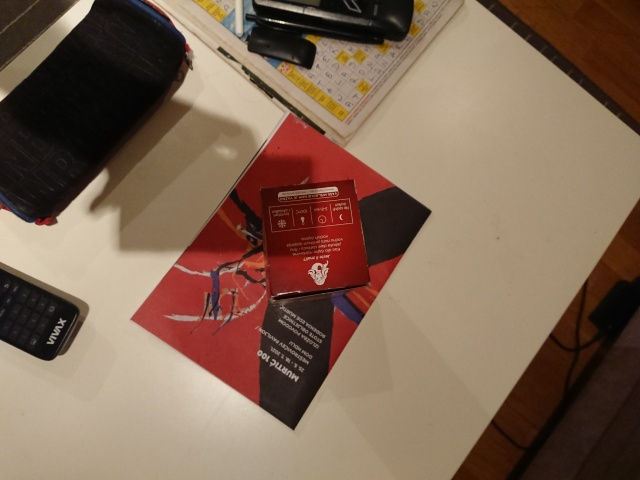Franck Apple Cinnamon Tea 60g: (256, 175, 373, 310)
